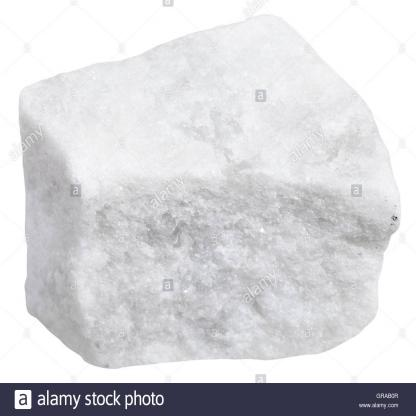Metamorphic_Marble: (9, 4, 406, 362)
